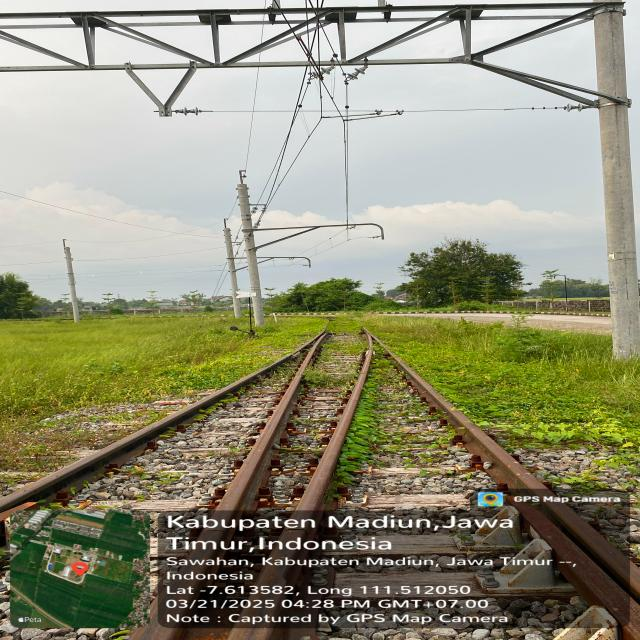rail-detection: (380, 343, 640, 640), (133, 331, 329, 640), (0, 341, 311, 511), (228, 339, 373, 640)
